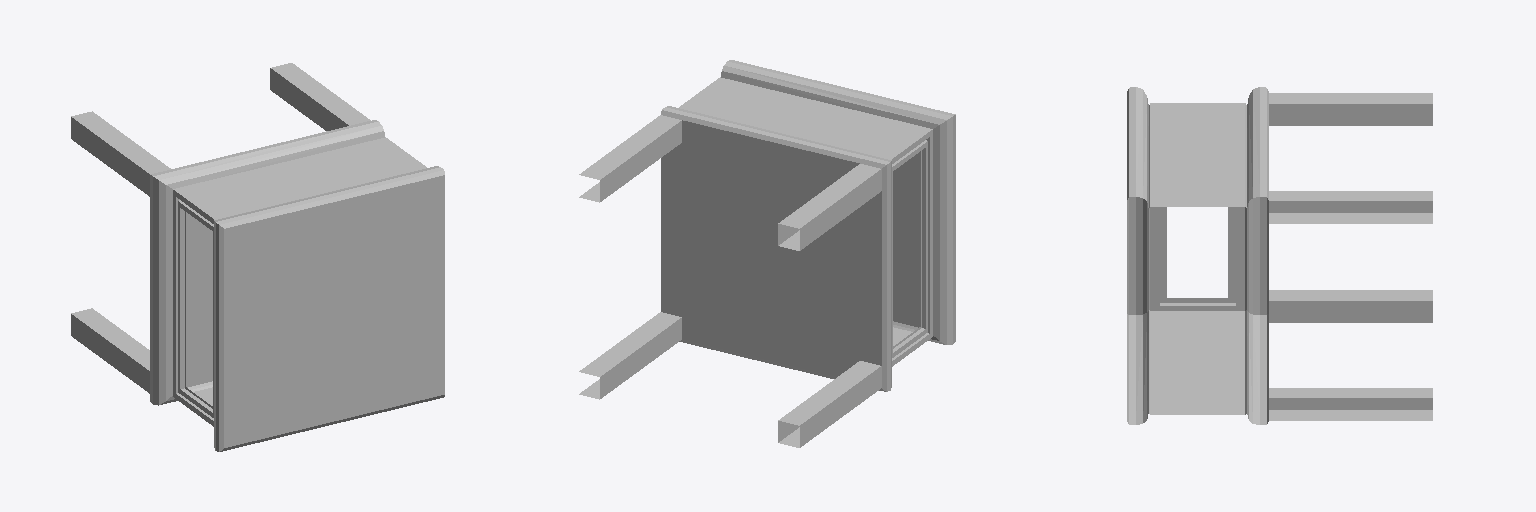
File: EndTable.obj
3 renders of one model, left to right at view 1: azimuth 30°, elevation 25°; view 2: azimuth 150°, elevation 25°; view 3: azimuth 270°, elevation 25°, orthographic.
Size of the model in its own units: 7.94 by 7.69 by 9.36.